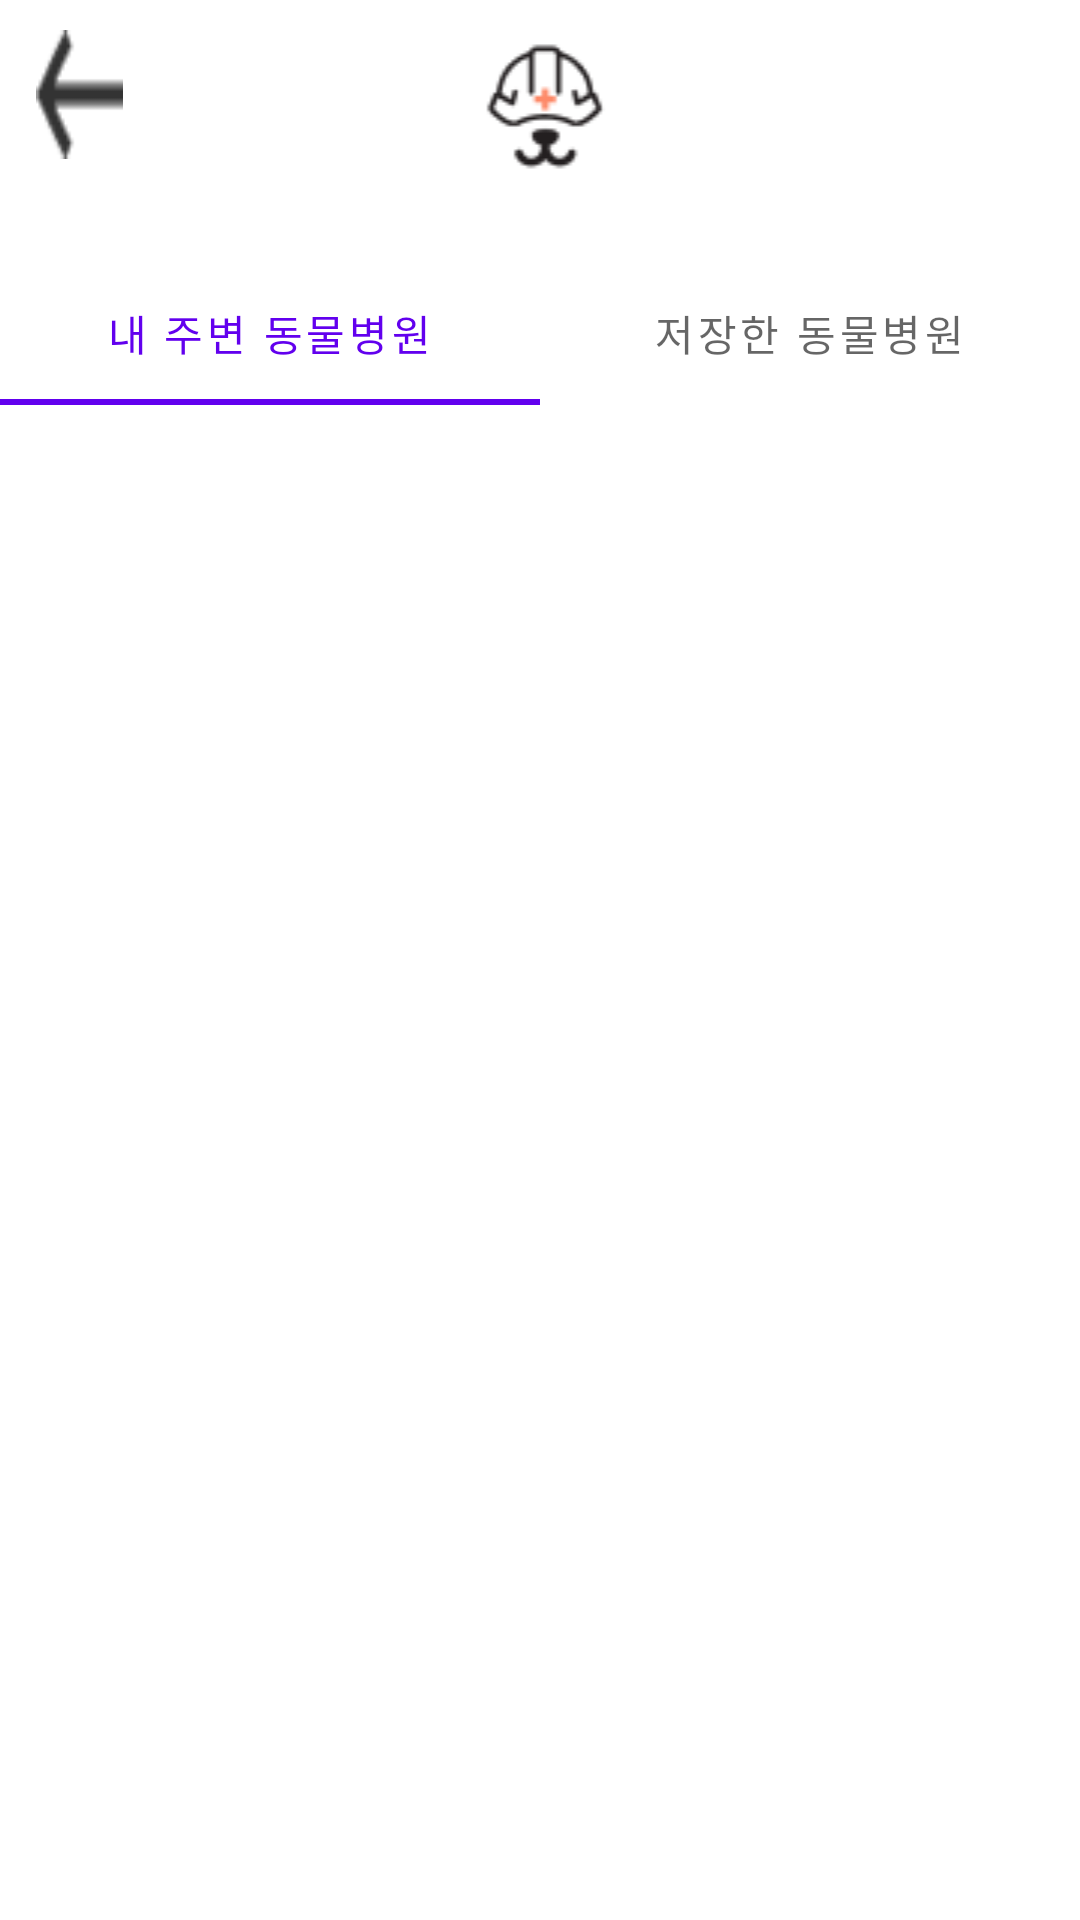

Point at icon controls on the screen. Image size 1080×1920, points as (x,y).
back: (79,94)
